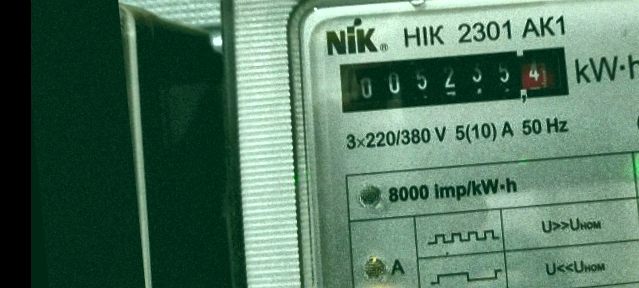0: (357, 73, 376, 100), (386, 68, 402, 94)
2: (441, 62, 457, 88)
3: (468, 57, 485, 83)
4: (525, 56, 543, 83)
5: (495, 56, 513, 84), (413, 64, 430, 92)
screen: (328, 32, 582, 125)
